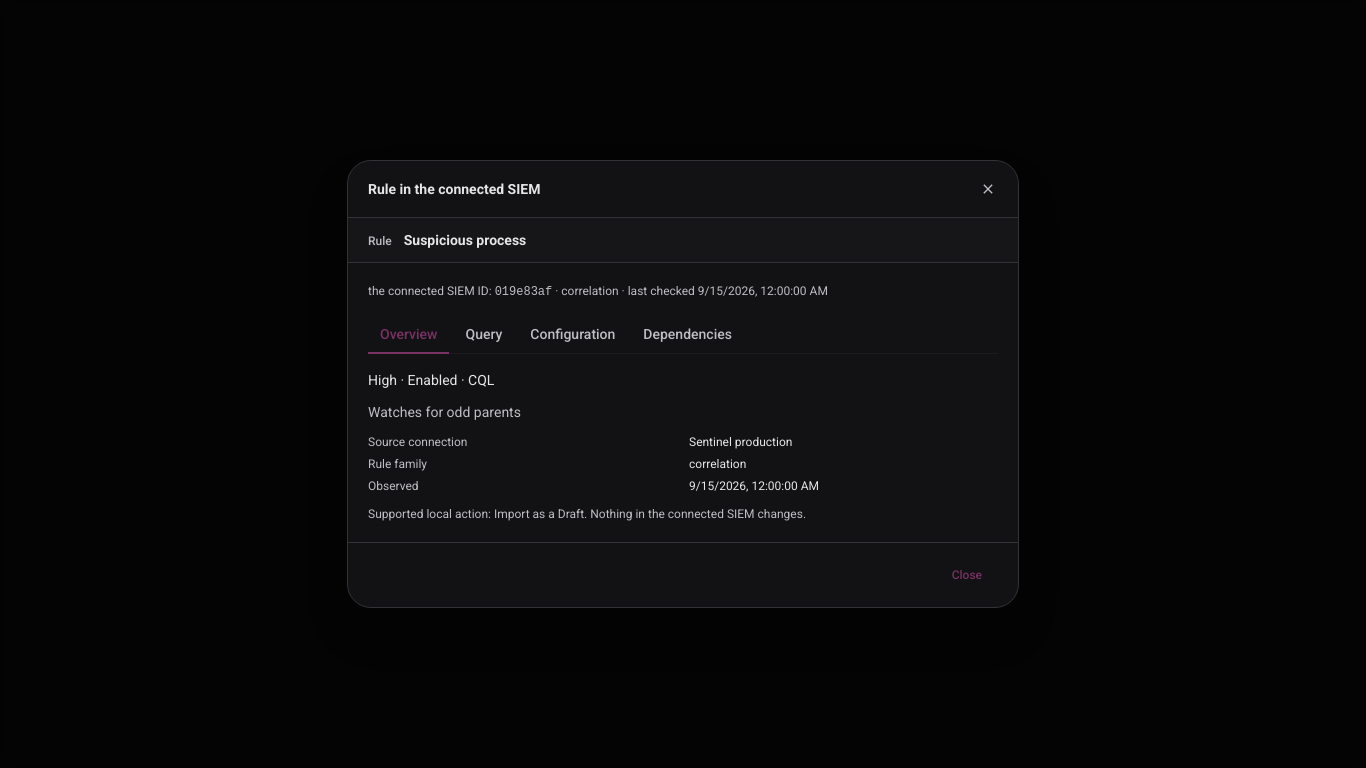
Test: RulePreviewDialog › loads the recorded source envelope only when its disclosure is opened
This screenshot has width=1366, height=768.
Expected: the text "Sentinel production" is shown, [689,435,792,449]
What coordinates should you click on to do the following:
click the tab "Configuration"
I would click on:
 (573, 335)
Its box is [518,316,627,354].
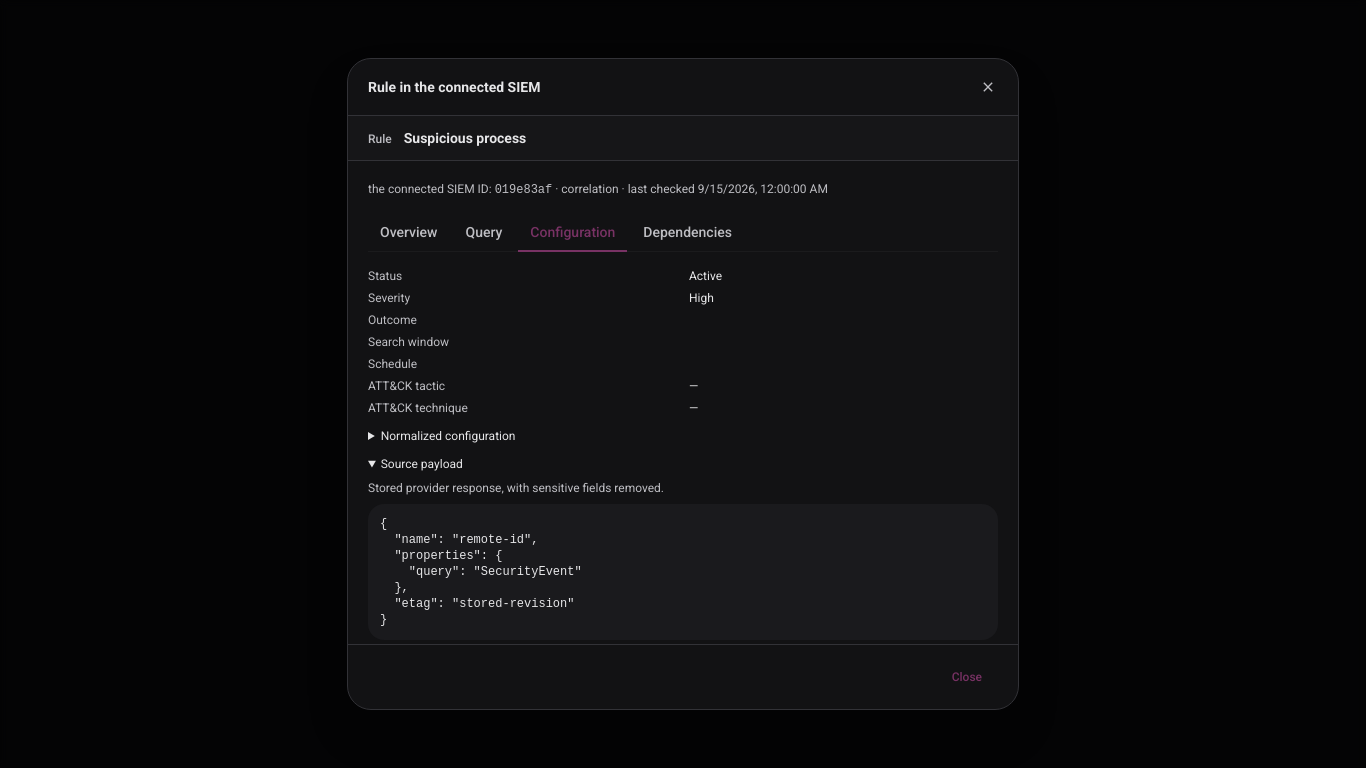
Now the text "stored-revision" is shown, box [380,517,582,627]
